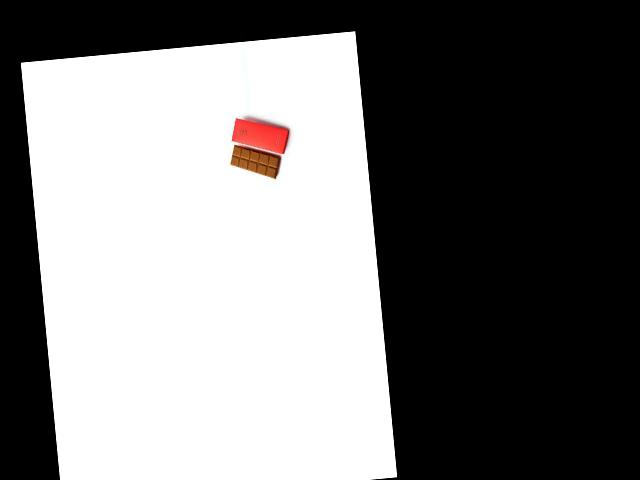chocolate: (227, 138, 285, 182)
